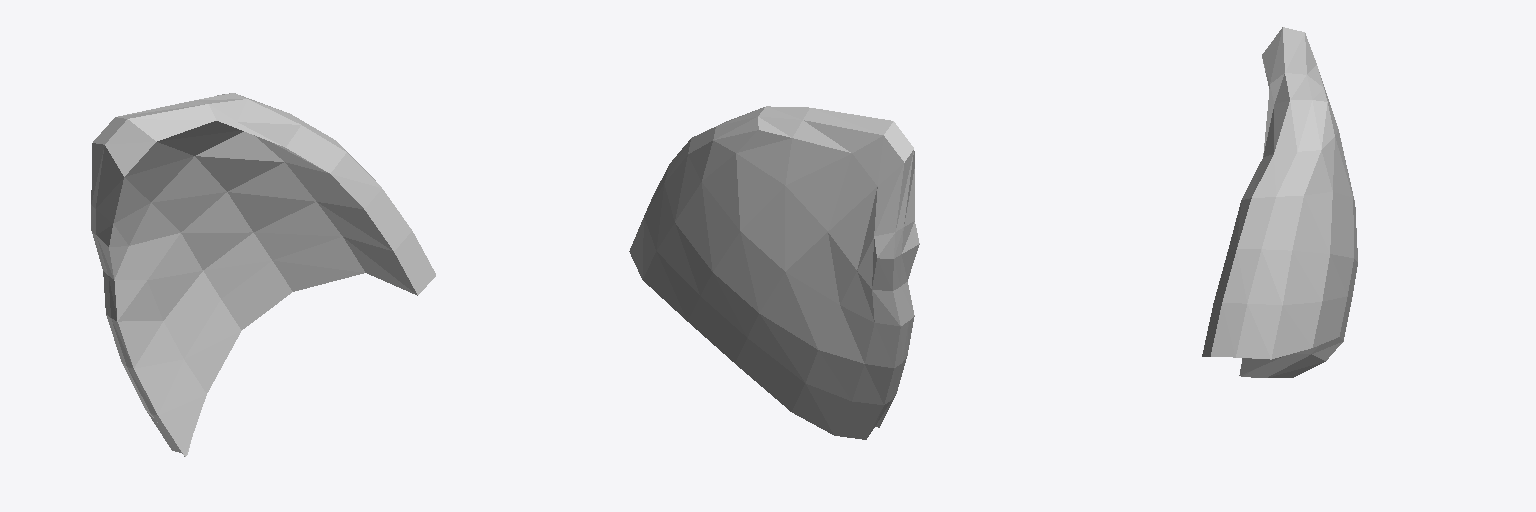
Rendered from earR.obj.
The picture shows the model from 3 angles: view 1: azimuth 30°, elevation 25°; view 2: azimuth 150°, elevation 25°; view 3: azimuth 270°, elevation 25°; orthographic projection.
Visible parts, largest first — view 1: earR; view 2: earR; view 3: earR.
Part boxes in pixels (x1,y1,x2,y2): earR: (91, 93, 435, 456); earR: (629, 106, 919, 439); earR: (1202, 27, 1357, 377).
Size of the model in its own units: 4.16 by 4.43 by 1.88.